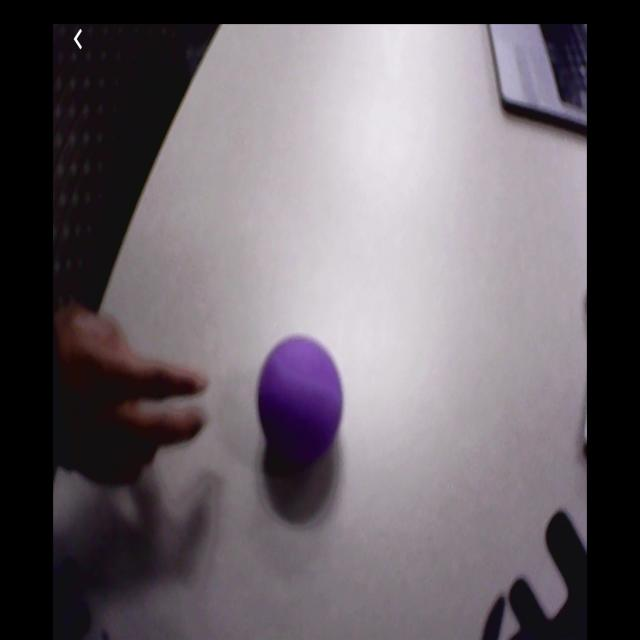ball: (258, 335, 343, 462)
